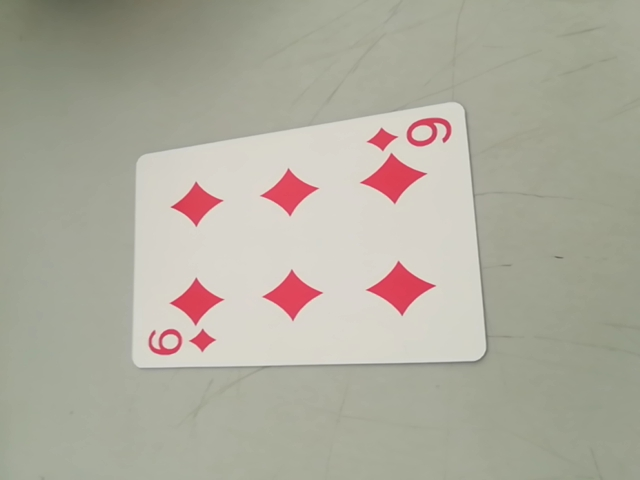fk 6: (371, 113, 452, 155), (140, 323, 221, 364)
